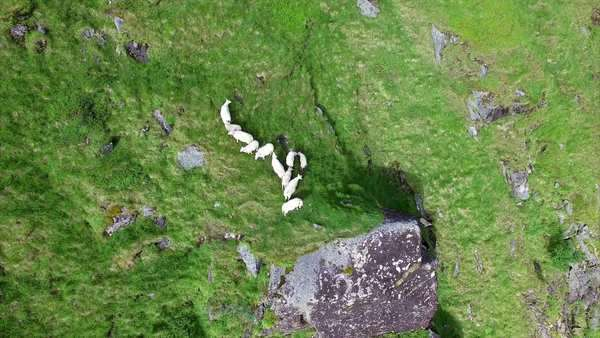sheep: (268, 152, 288, 180), (281, 198, 304, 219), (226, 128, 254, 144), (288, 175, 305, 199), (255, 141, 274, 160), (238, 140, 262, 155), (222, 100, 235, 121), (296, 151, 309, 170), (286, 148, 297, 166), (284, 167, 293, 187), (223, 121, 241, 131)
